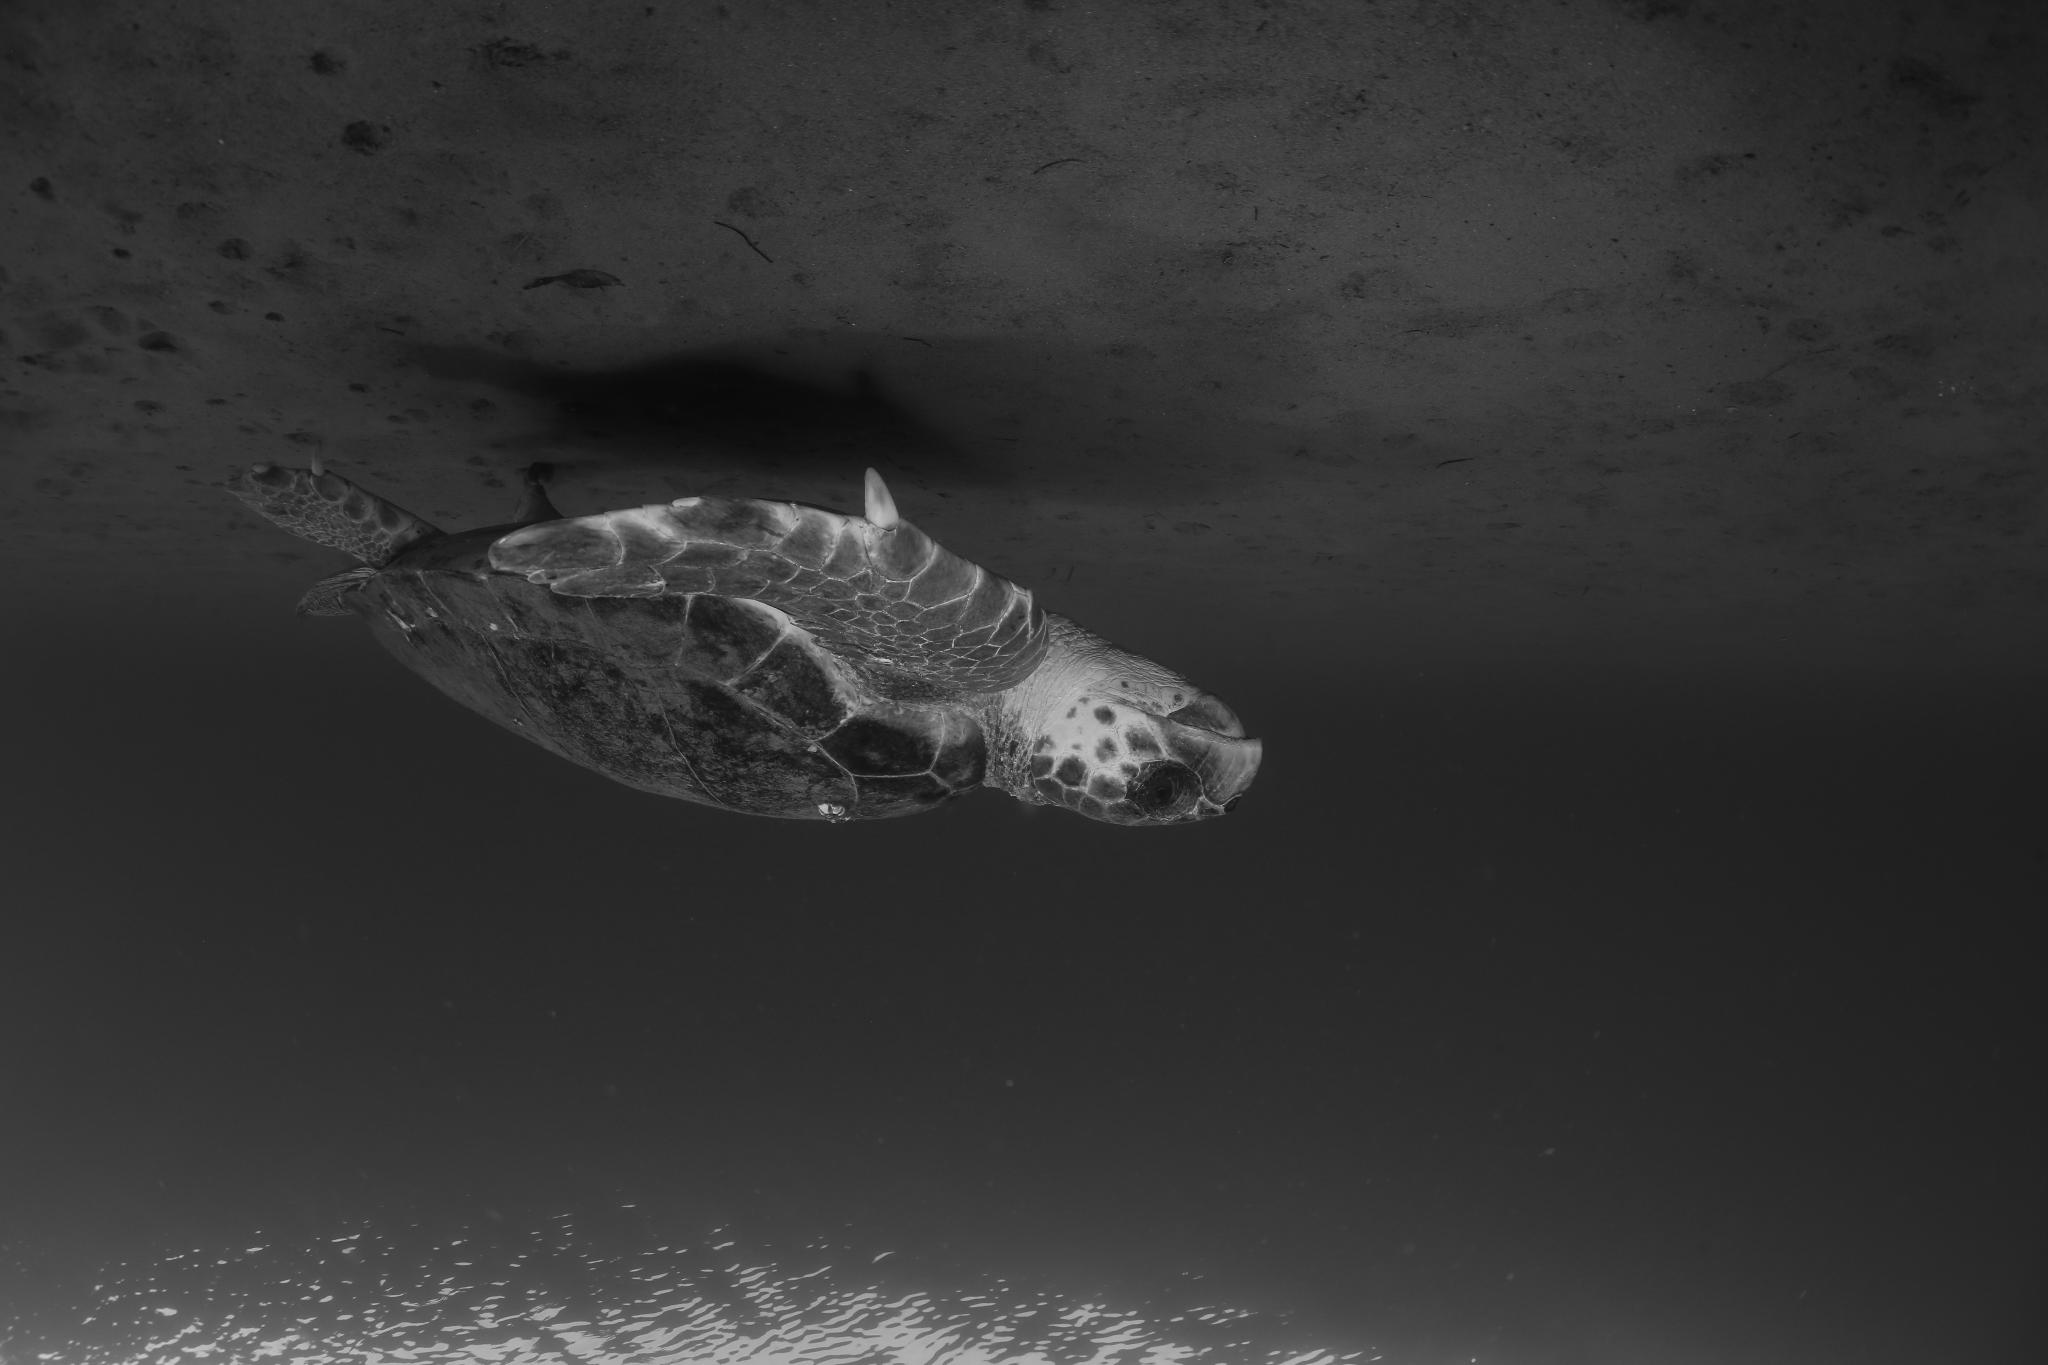Head: (1000, 636, 1262, 825)
